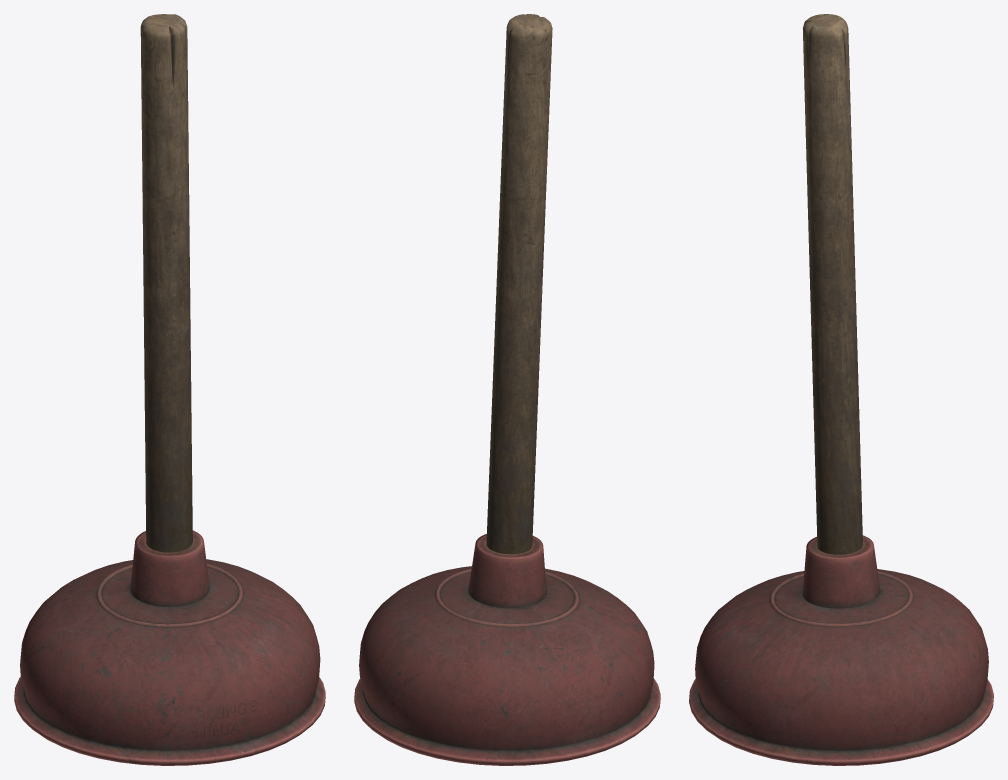
File: plunger_2k.gltf
The picture shows the model from 3 angles, left to right: view 1: azimuth 30°, elevation 25°; view 2: azimuth 150°, elevation 25°; view 3: azimuth 270°, elevation 25°; orthographic projection. The views are drawn at different scales.
Parts seen in each view (by area): view 1: plunger; view 2: plunger; view 3: plunger.
Boxes of the visible parts, box(x1,y1,x2,y2) form: plunger: box(14, 14, 325, 765); plunger: box(354, 14, 660, 765); plunger: box(689, 14, 993, 765).
Bounding box in the file's own units: 0.1721 × 0.4211 × 0.1721.
Materials: 1 (1 with a texture image).
